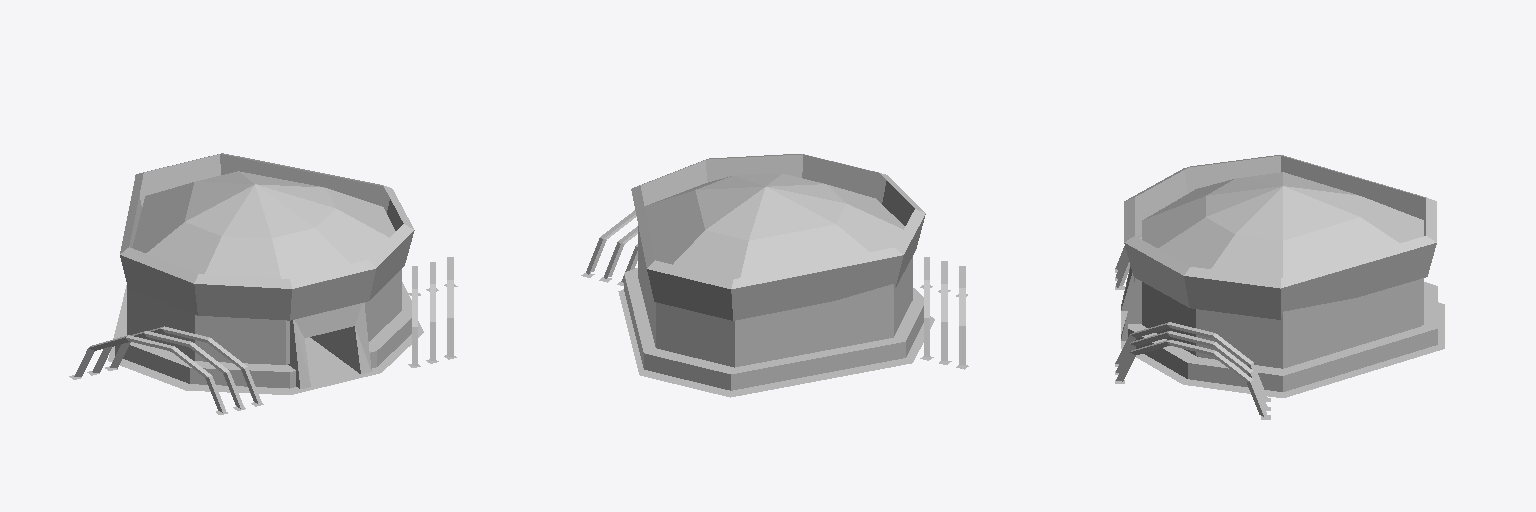
File: Big Stadium.obj
3 views of the same model, side by side, from view 1: azimuth 30°, elevation 25°; view 2: azimuth 150°, elevation 25°; view 3: azimuth 270°, elevation 25° (orthographic).
Visible parts, largest first — view 1: polygon4, polygon5, polygon3, polygon6, polygon0, polygon2; view 2: polygon5, polygon4, polygon3, polygon6, polygon2, polygon0; view 3: polygon5, polygon4, polygon3, polygon6, polygon2.
Part boxes in pixels (x1,y1,x2,y2): polygon4: (132, 171, 395, 278); polygon5: (69, 269, 457, 414); polygon3: (120, 153, 414, 320); polygon6: (74, 257, 453, 412); polygon0: (290, 269, 375, 320); polygon2: (108, 285, 423, 394); polygon5: (581, 226, 968, 390); polygon4: (645, 174, 904, 278); polygon3: (631, 154, 925, 320); polygon6: (586, 210, 965, 364); polygon2: (618, 289, 934, 397); polygon0: (802, 154, 886, 203); polygon5: (1115, 266, 1437, 419); polygon4: (1142, 172, 1423, 277); polygon3: (1124, 155, 1436, 319); polygon6: (1115, 234, 1267, 417); polygon2: (1121, 302, 1444, 397).
Size of the model in its own units: 327 by 115 by 244.